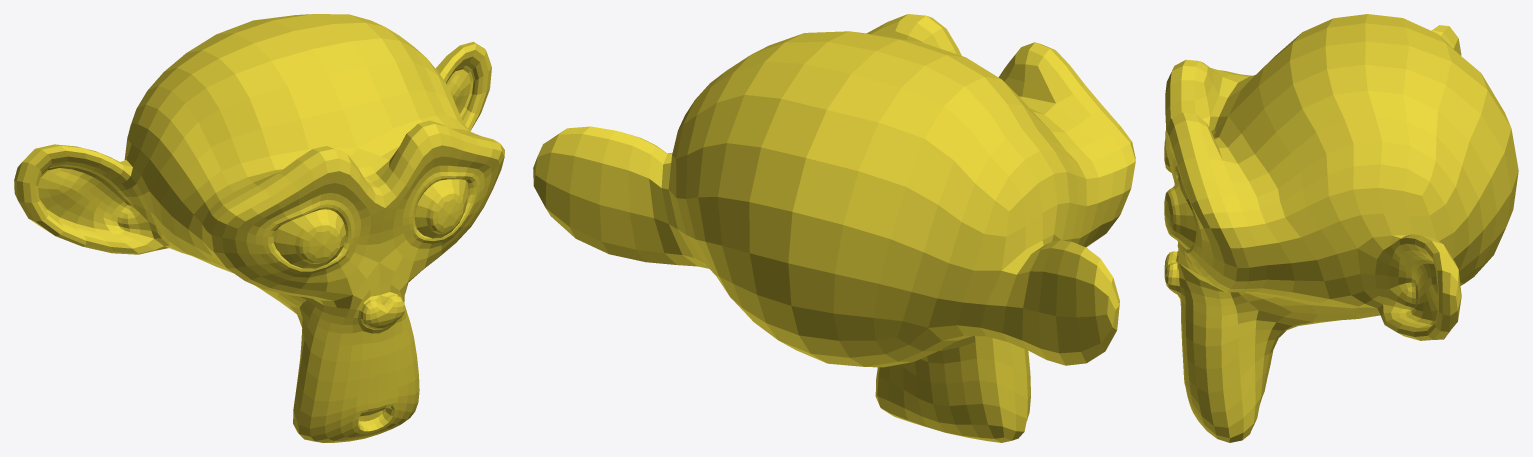
The model's file is saruchi.gltf.
3 views of the same model, side by side, from view 1: azimuth 30°, elevation 25°; view 2: azimuth 150°, elevation 25°; view 3: azimuth 270°, elevation 25° (orthographic). The views are drawn at different scales.
Visible parts, largest first — view 1: Suzanne; view 2: Suzanne; view 3: Suzanne.
Part boxes in pixels (<box>): Suzanne: <box>14,14,504,442</box>; Suzanne: <box>533,14,1135,442</box>; Suzanne: <box>1164,14,1518,442</box>.
Bounding box in the file's own units: 2.65 × 1.91 × 1.6.
